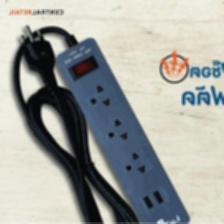three_eye_plug: (51, 36, 193, 224)
